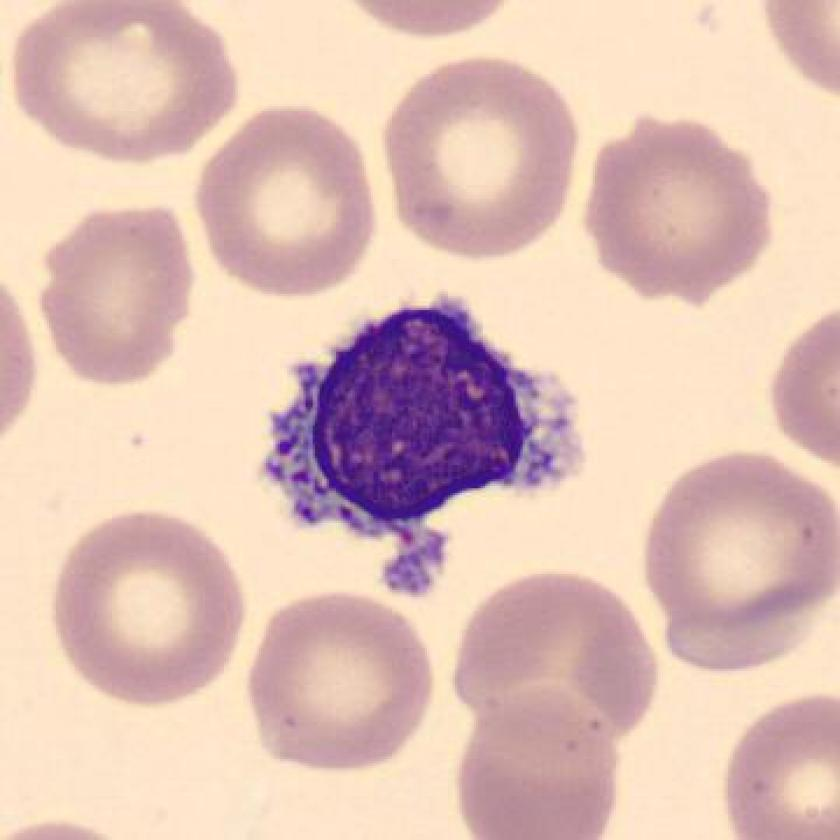lymphocyte: (244, 279, 605, 600)
